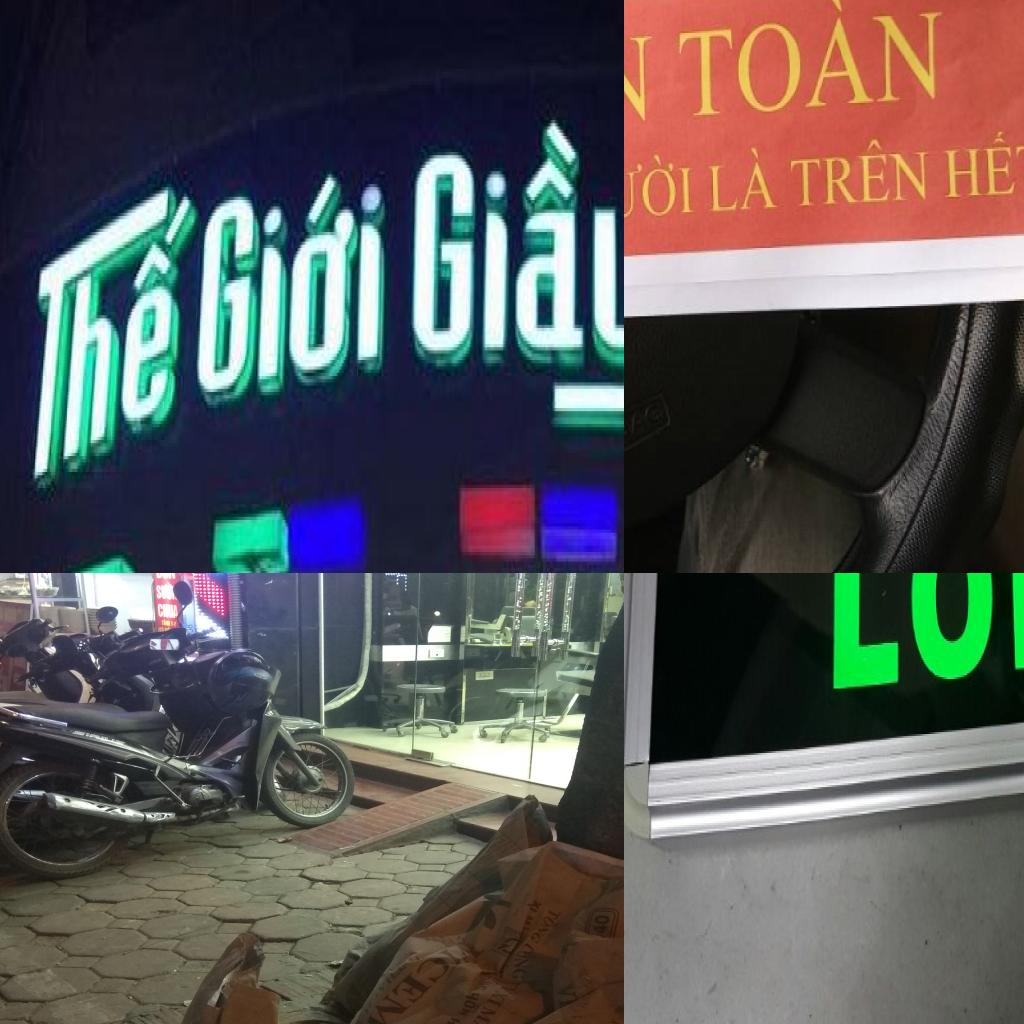text: (406, 113, 624, 420), (30, 165, 197, 491), (193, 158, 386, 405), (676, 0, 942, 121), (818, 573, 1024, 709), (787, 134, 931, 210), (360, 951, 456, 1024), (943, 123, 1024, 201), (624, 150, 694, 227), (706, 144, 780, 215), (624, 34, 655, 133), (526, 906, 570, 950), (502, 940, 538, 982), (448, 1004, 503, 1024), (452, 990, 489, 1019), (483, 988, 509, 1010), (555, 979, 580, 998), (591, 913, 611, 936), (498, 980, 525, 996), (426, 1014, 466, 1024), (157, 603, 180, 619), (555, 1013, 587, 1024), (525, 898, 545, 914), (69, 729, 93, 738), (155, 573, 177, 579), (156, 584, 162, 600), (160, 618, 170, 627), (186, 625, 194, 629), (170, 620, 174, 626), (174, 622, 177, 628)
